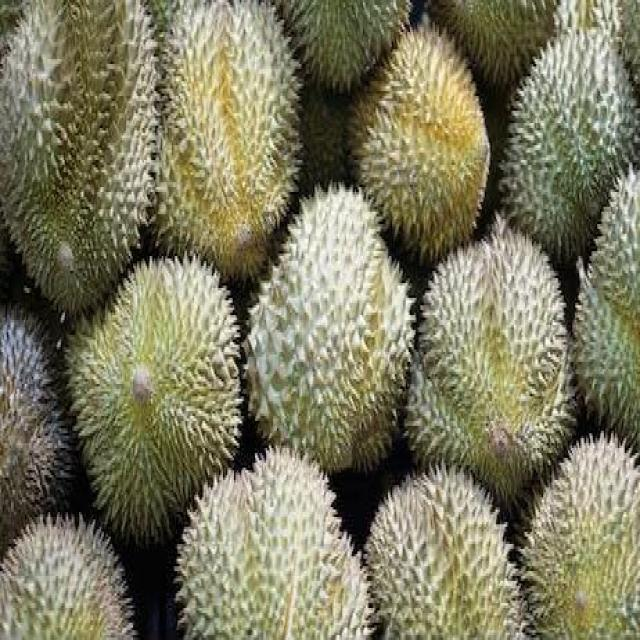immature: (237, 173, 421, 479), (61, 255, 248, 549), (406, 227, 584, 512), (0, 0, 156, 321), (496, 17, 640, 251)
mature: (147, 0, 300, 280), (349, 14, 491, 262)
